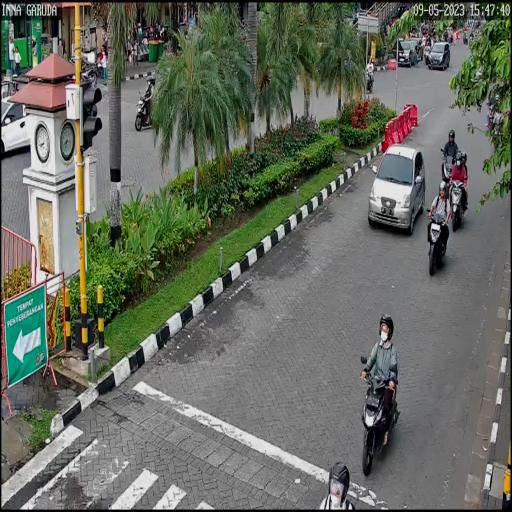mobil: (369, 141, 426, 238)
motor: (357, 354, 400, 479), (426, 207, 452, 275), (446, 173, 470, 226), (439, 142, 459, 186)
